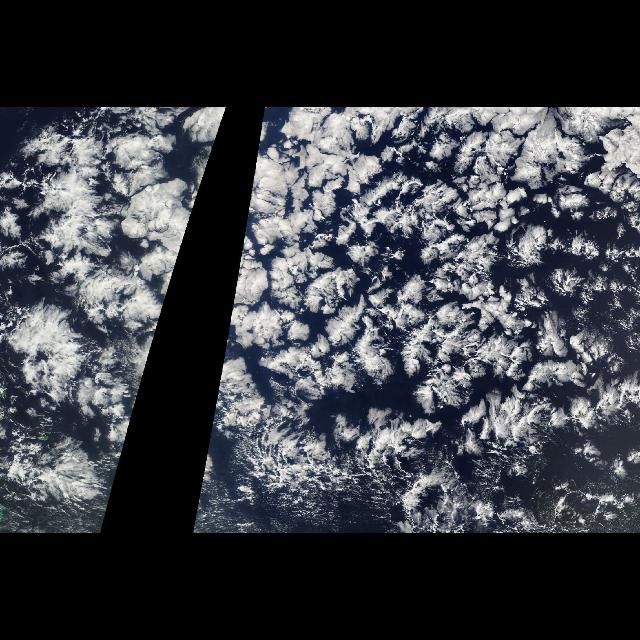Flower: (195, 107, 632, 511), (1, 107, 230, 511)
